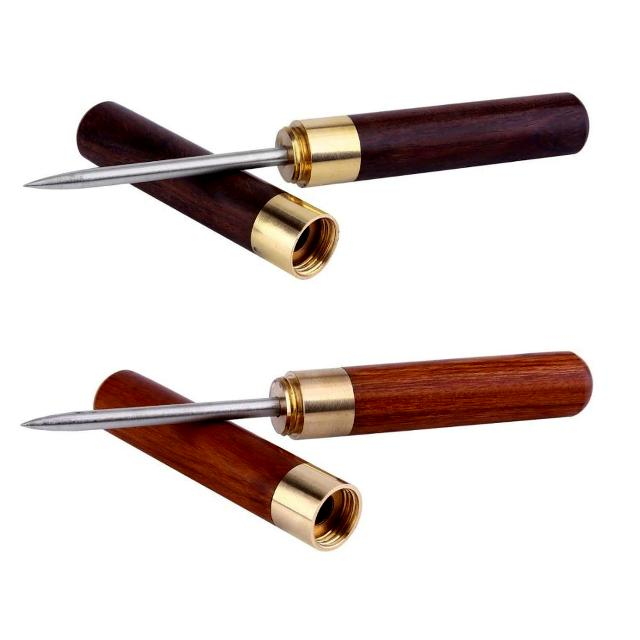ice pick: (23, 91, 590, 191), (20, 350, 594, 440)
